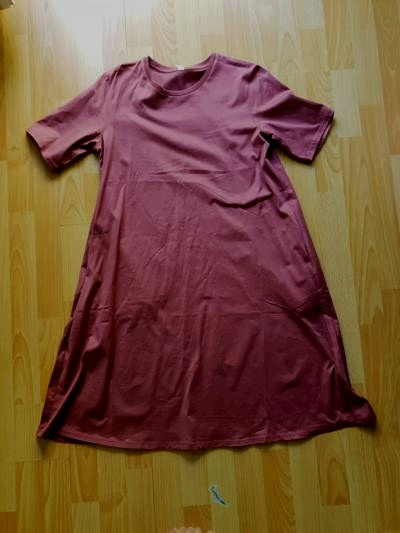Dress: (0, 46, 385, 480)
